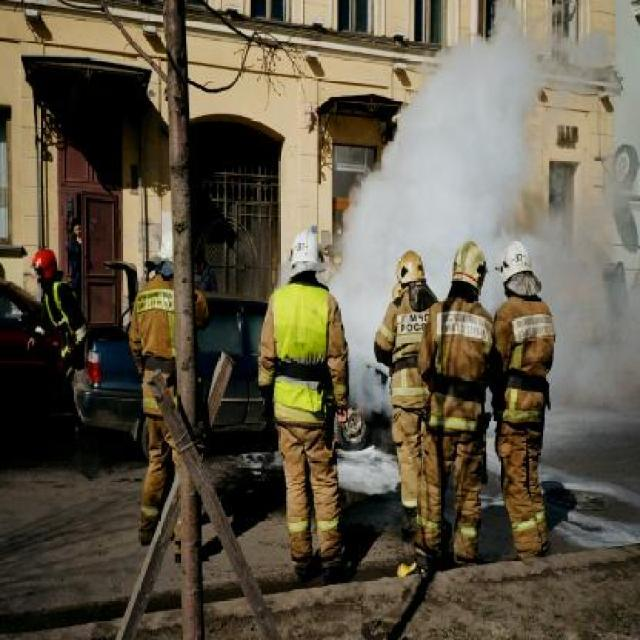Smoke: (329, 29, 640, 426)
